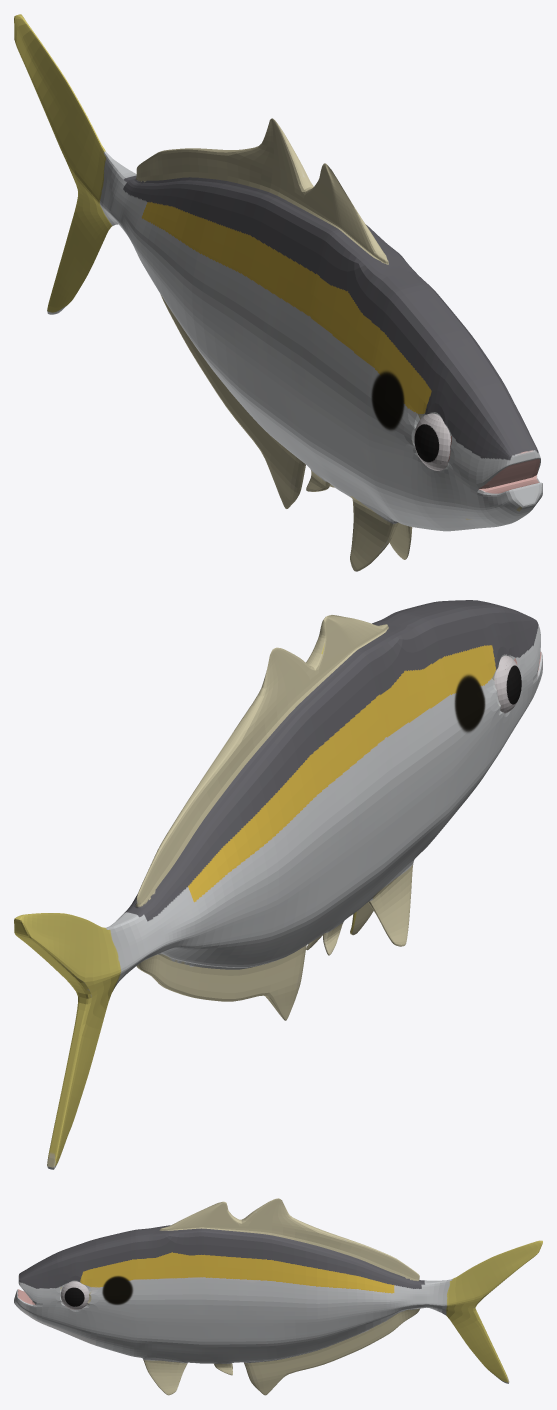
File: YellowstripeScad 1.fbx
3 views of the same model, one above another, from view 1: azimuth 30°, elevation 25°; view 2: azimuth 150°, elevation 25°; view 3: azimuth 270°, elevation 25° (orthographic). The views are drawn at different scales.
Visible parts, largest first — view 1: Cube, Sphere; view 2: Cube, Sphere; view 3: Cube, Sphere.
Boxes of the visible parts, x1=… form: Cube: x1=14, y1=14, x2=542, y2=571; Sphere: x1=414, y1=413, x2=450, y2=470; Cube: x1=14, y1=600, x2=542, y2=1169; Sphere: x1=494, y1=655, x2=521, y2=713; Cube: x1=14, y1=1198, x2=542, y2=1395; Sphere: x1=60, y1=1281, x2=89, y2=1309.
Size of the model in its own units: 0.1686 by 0.635 by 1.54.
Materials: 2 (2 with a texture image).
